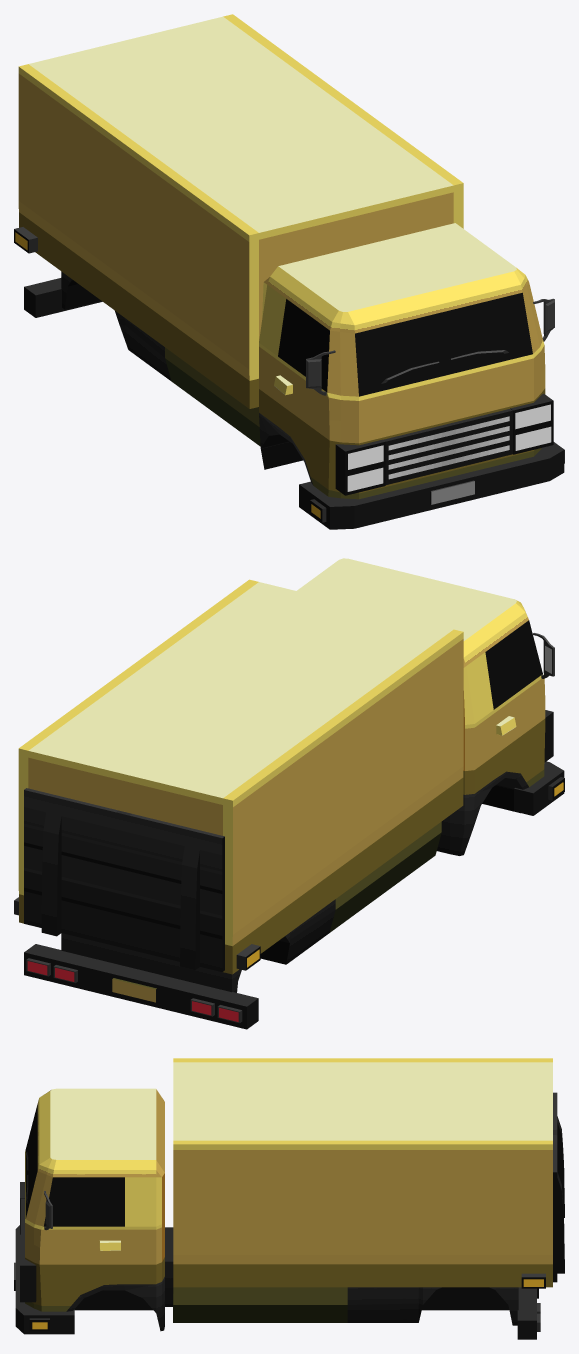
The model's file is Truck.004.fbx.
3 renders of one model, top to bottom at view 1: azimuth 30°, elevation 25°; view 2: azimuth 150°, elevation 25°; view 3: azimuth 270°, elevation 25°, orthographic. The views are drawn at different scales.
Parts seen in each view (by area): view 1: Truck.004; view 2: Truck.004; view 3: Truck.004.
Boxes of the visible parts, x1,y1,x2,y2 form: Truck.004: [14, 14, 564, 529]; Truck.004: [14, 558, 564, 1029]; Truck.004: [14, 1058, 564, 1339].
Bounding box in the file's own units: 2.25 × 2.03 × 5.25.
